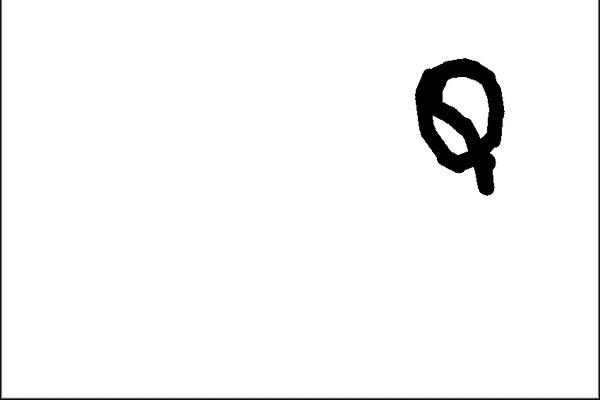Q: (405, 57, 510, 201)
